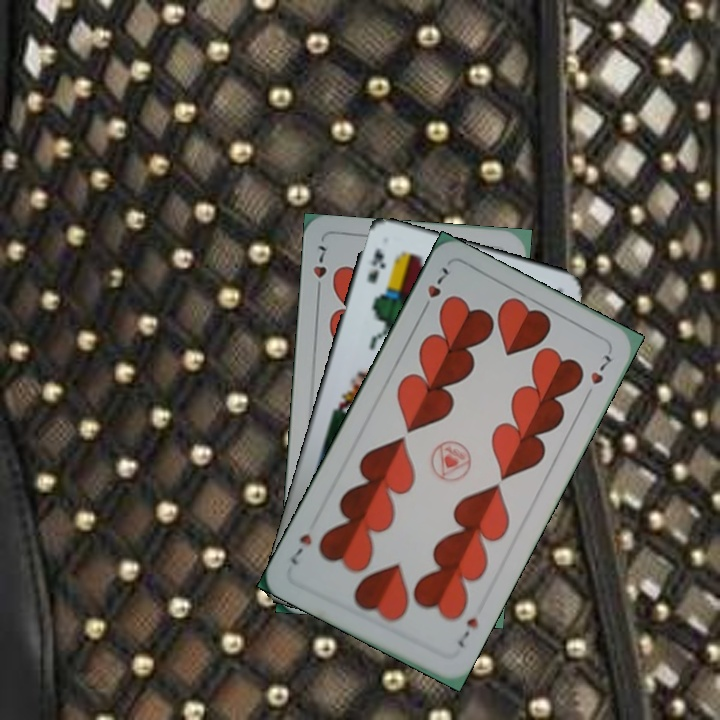EK: (363, 244, 388, 287)
H7: (417, 263, 453, 316), (309, 241, 329, 298), (452, 613, 481, 650)
